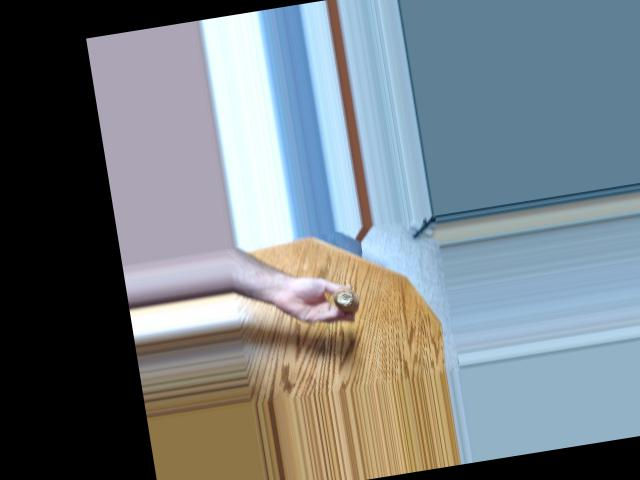sweet_potato: (332, 282, 364, 309)
